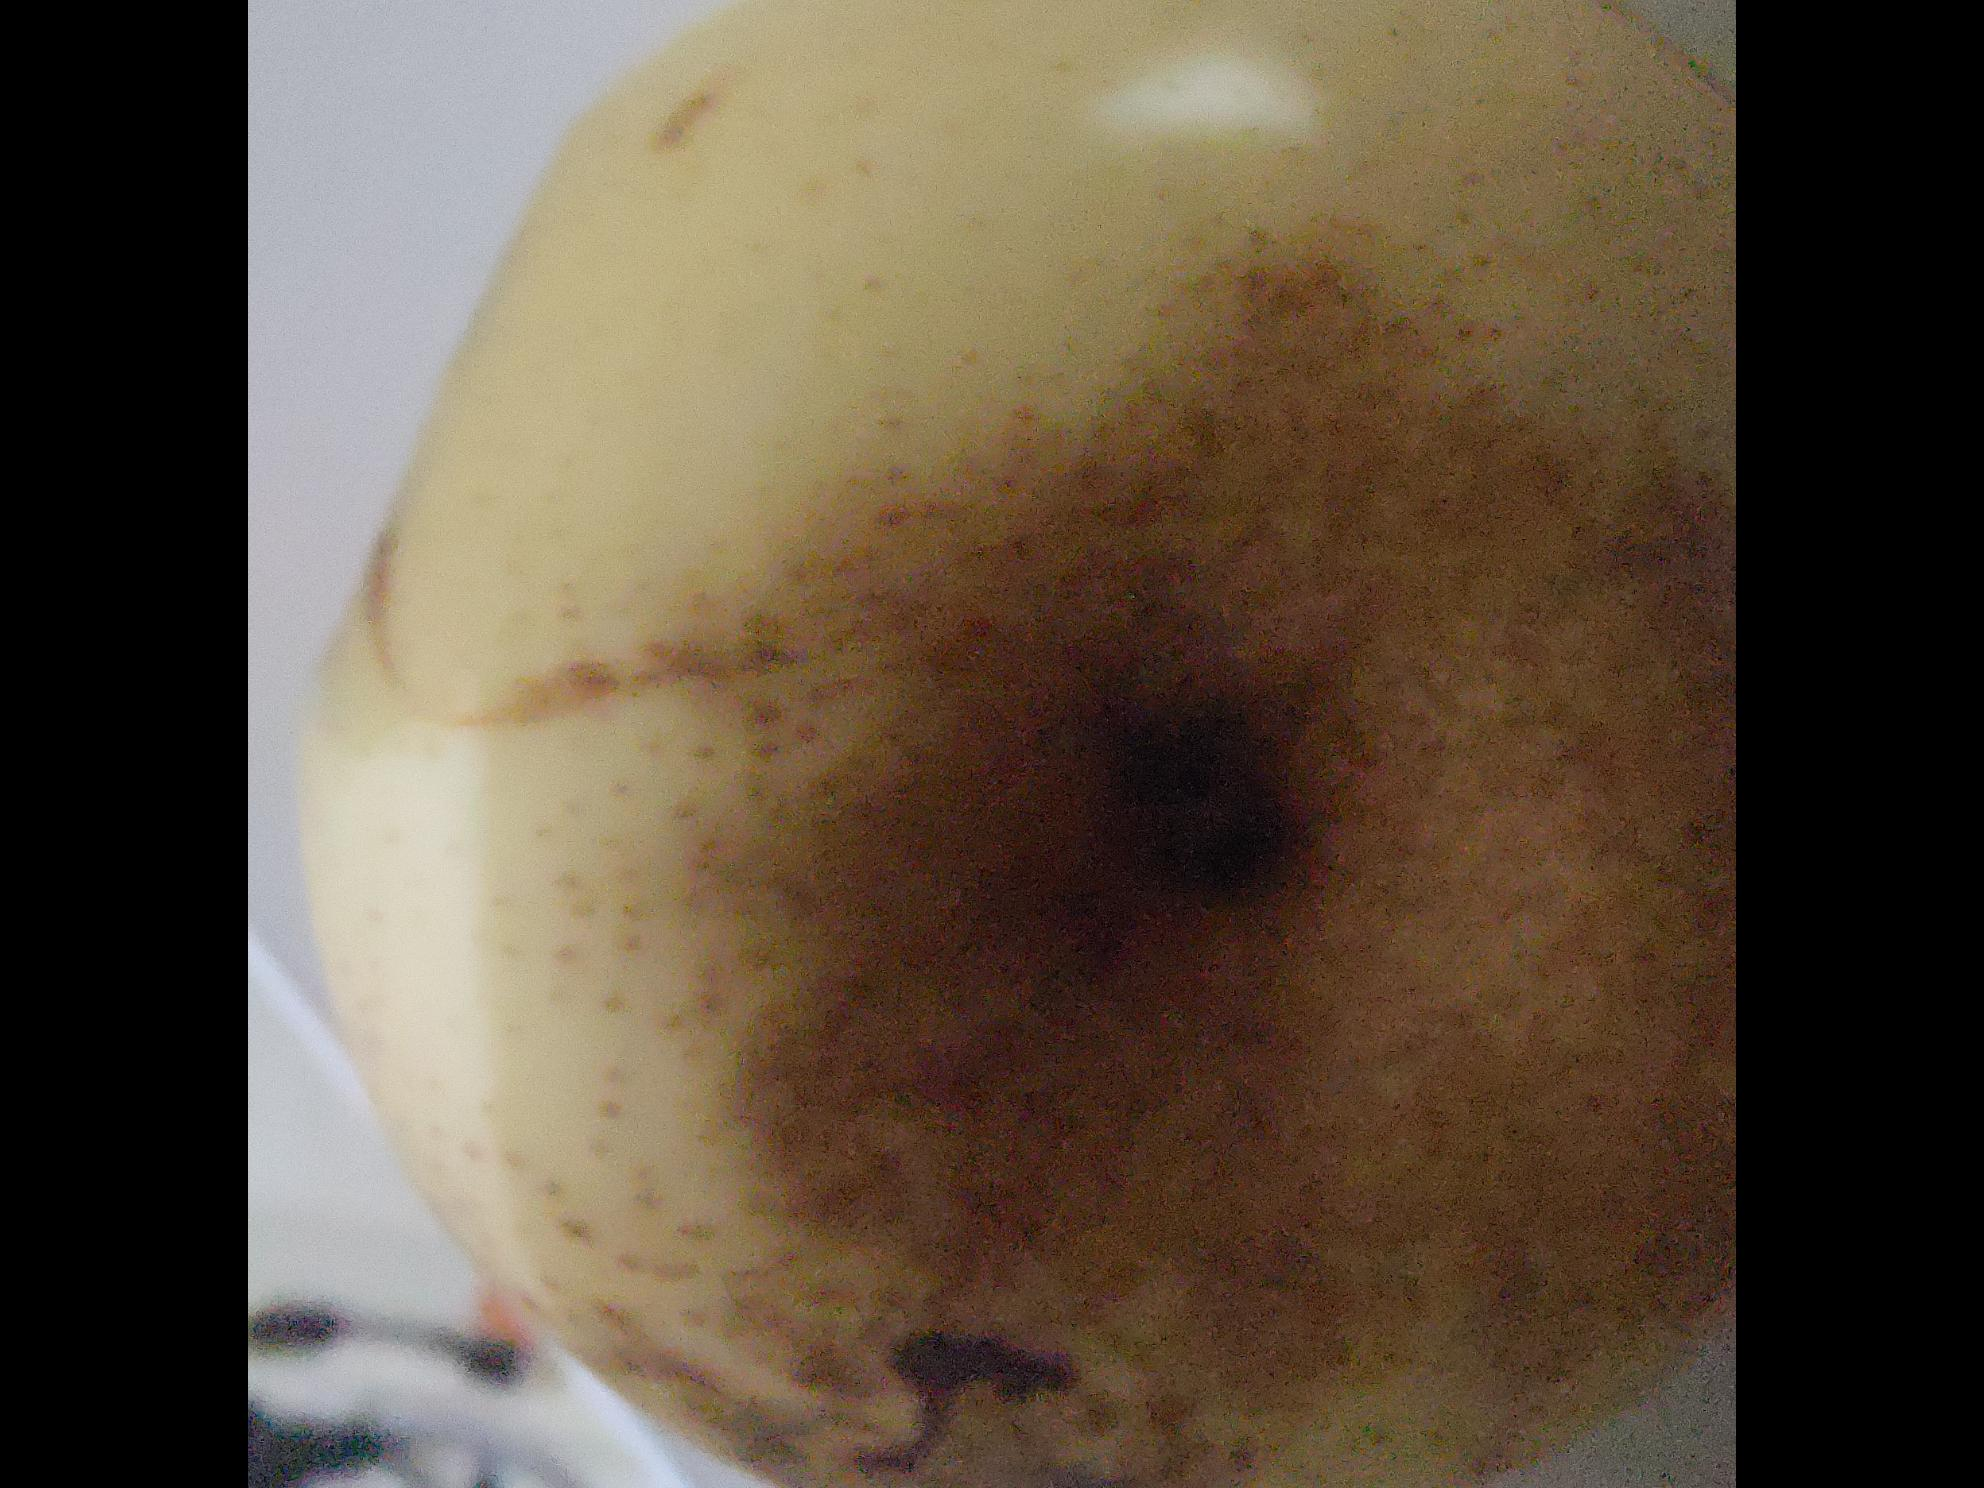Bad Pear: (277, 0, 1736, 1488)
